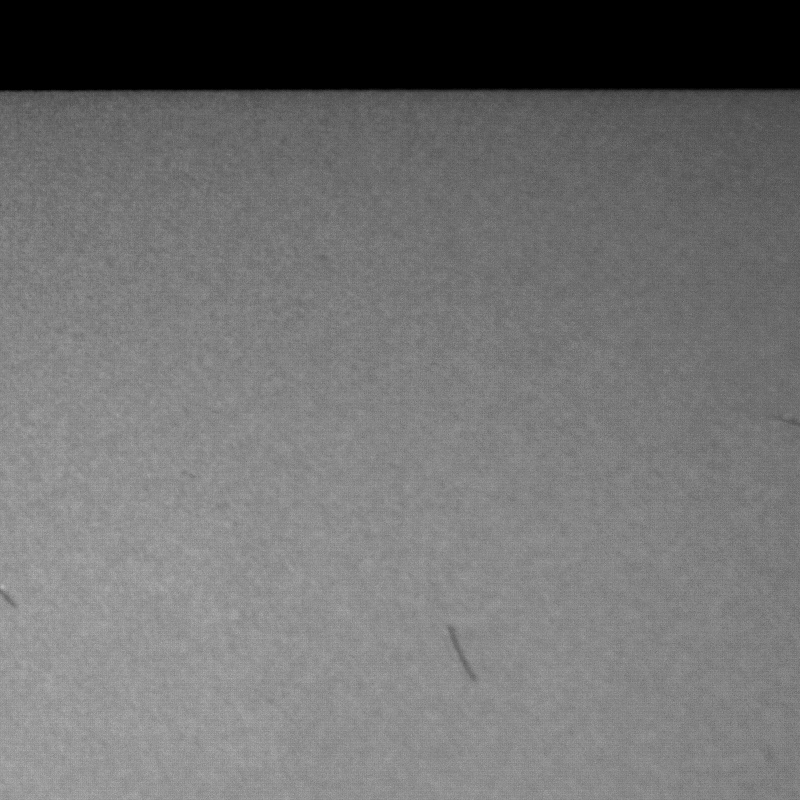defect: (444, 623, 481, 686), (1, 585, 21, 617)
